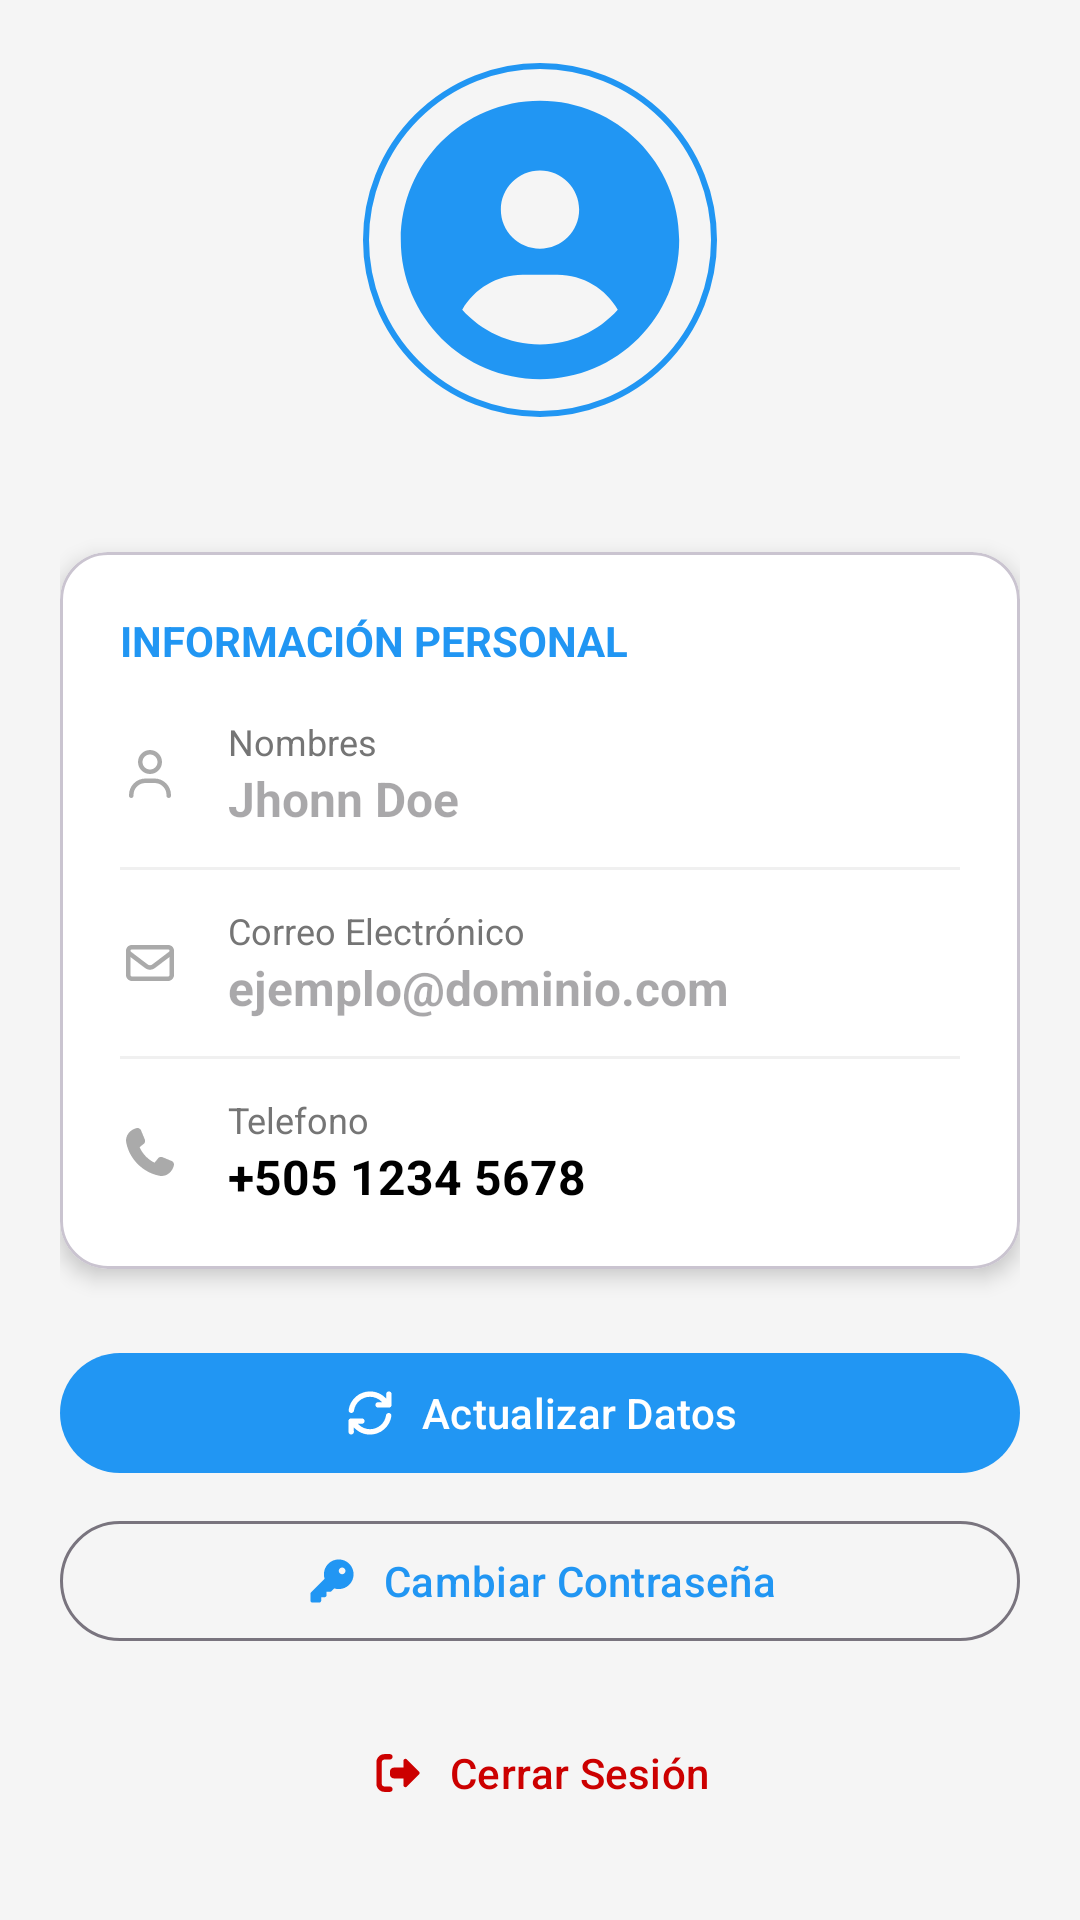

Screen size 1080px x 1920px. Icon name, then its box in pixels as (x1, y1, x2, y2):
circle user full: (363, 63, 717, 417)
Email Icon: (126, 945, 174, 981)
Phone Icon: (126, 1128, 174, 1176)
User icon: (129, 750, 171, 798)
